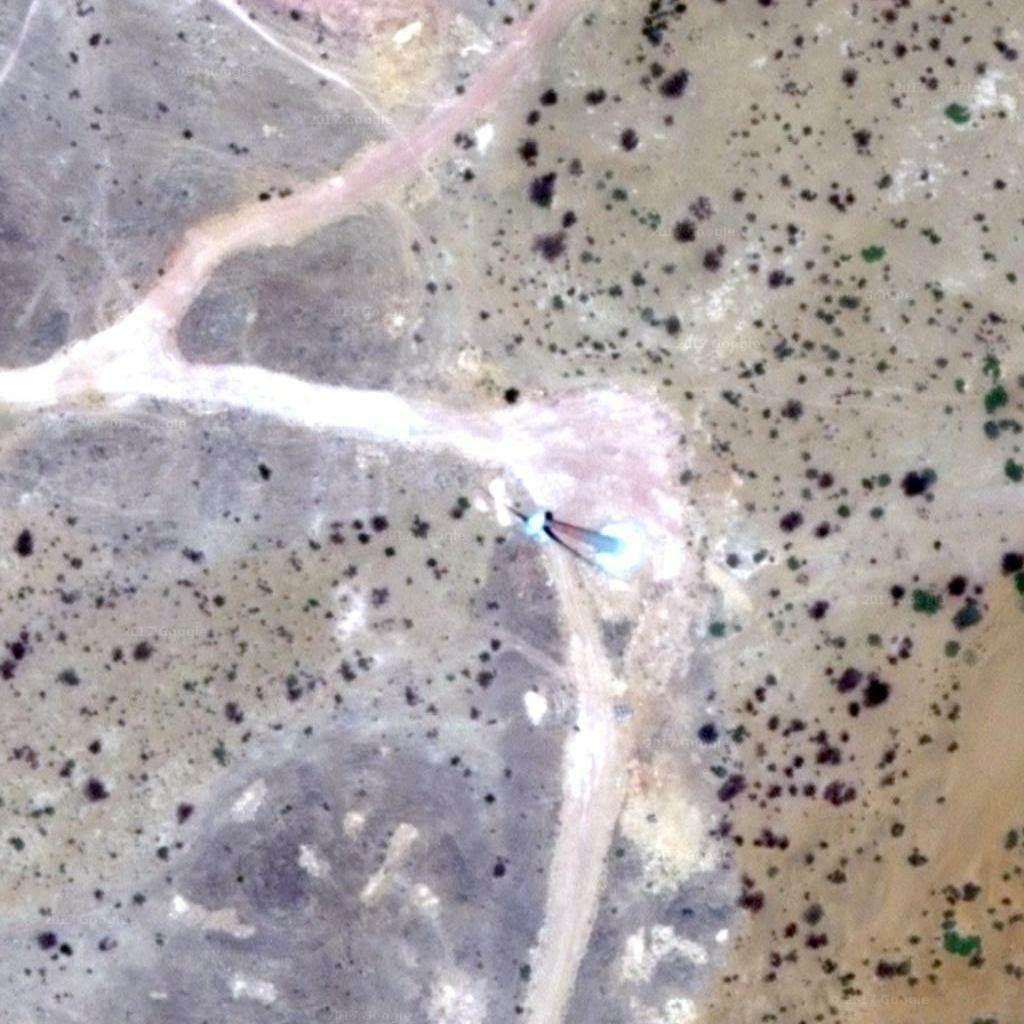Windmill: (527, 502, 560, 586)
